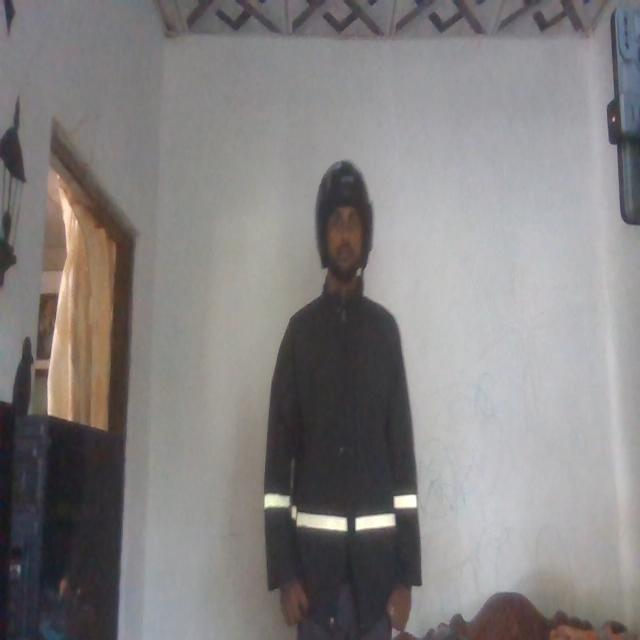Helmet_Wearer: (313, 159, 384, 312)
Jacket_Wearer: (262, 291, 419, 640)
Person: (268, 151, 426, 640)
